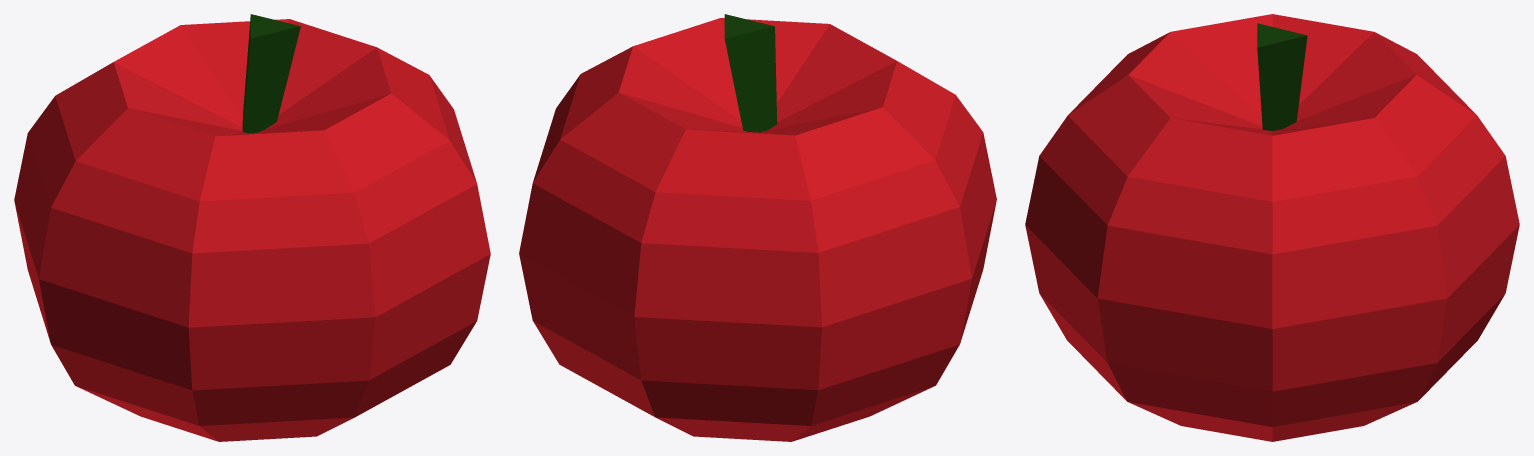
3 views of the same model, side by side, from view 1: azimuth 30°, elevation 25°; view 2: azimuth 150°, elevation 25°; view 3: azimuth 270°, elevation 25° (orthographic).
Visible parts, largest first — view 1: Apple_Sphere.001; view 2: Apple_Sphere.001; view 3: Apple_Sphere.001.
Boxes of the visible parts, x1=… form: Apple_Sphere.001: x1=14, y1=14, x2=490, y2=441; Apple_Sphere.001: x1=519, y1=14, x2=996, y2=441; Apple_Sphere.001: x1=1025, y1=14, x2=1519, y2=441.
Bounding box in the file's own units: 1.84 × 1.48 × 1.84.
Materials: 1 (1 with a texture image).
